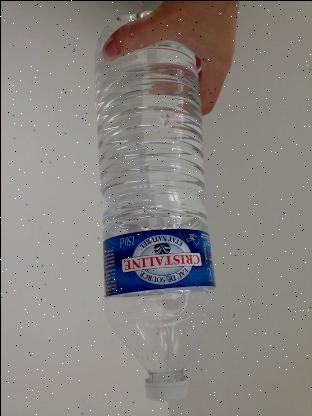Plastic Bottle: (93, 10, 216, 402)
